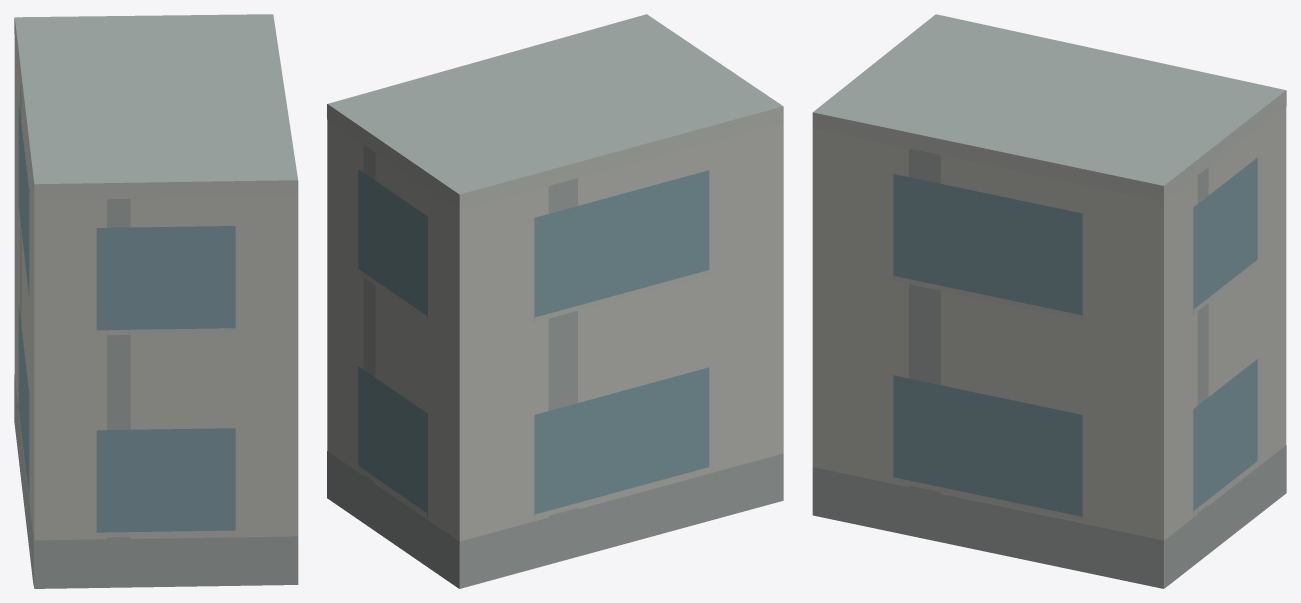
The model's file is survey-upis-32742283.glb.
The picture shows the model from 3 angles, left to right: view 1: azimuth 30°, elevation 25°; view 2: azimuth 150°, elevation 25°; view 3: azimuth 270°, elevation 25°; orthographic projection. The views are drawn at different scales.
Parts seen in each view (by area): view 1: survey-upis-32742283.tmp; view 2: survey-upis-32742283.tmp; view 3: survey-upis-32742283.tmp.
Part boxes in pixels (bbox=[...]): survey-upis-32742283.tmp: bbox=[14, 14, 298, 588]; survey-upis-32742283.tmp: bbox=[327, 14, 783, 588]; survey-upis-32742283.tmp: bbox=[812, 14, 1286, 588].
Bounding box in the file's own units: 5.59 × 6.1 × 6.51.
